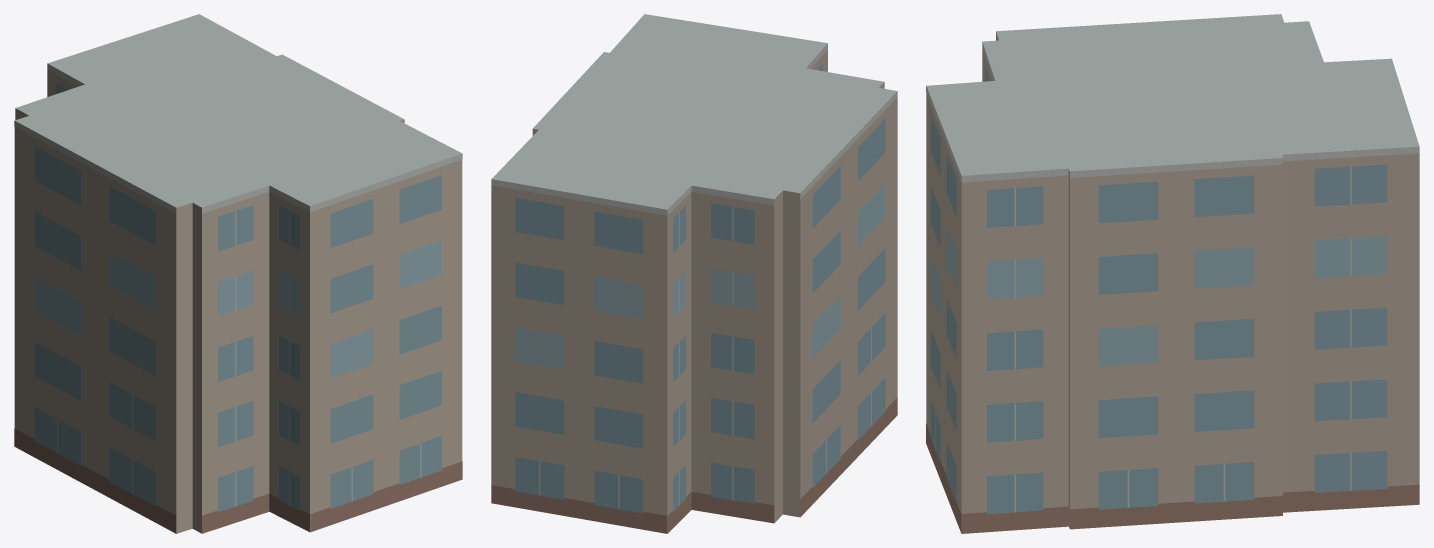
The model's file is survey-upis-32741542.glb.
3 views of the same model, side by side, from view 1: azimuth 30°, elevation 25°; view 2: azimuth 150°, elevation 25°; view 3: azimuth 270°, elevation 25° (orthographic). The views are drawn at different scales.
Parts seen in each view (by area): view 1: survey-upis-32741542.tmp; view 2: survey-upis-32741542.tmp; view 3: survey-upis-32741542.tmp.
Part boxes in pixels (x1,y1,x2,y2): survey-upis-32741542.tmp: (14, 14, 462, 533); survey-upis-32741542.tmp: (491, 14, 897, 533); survey-upis-32741542.tmp: (926, 14, 1419, 533).
Bounding box in the file's own units: 12.67 × 13.05 × 16.31.
